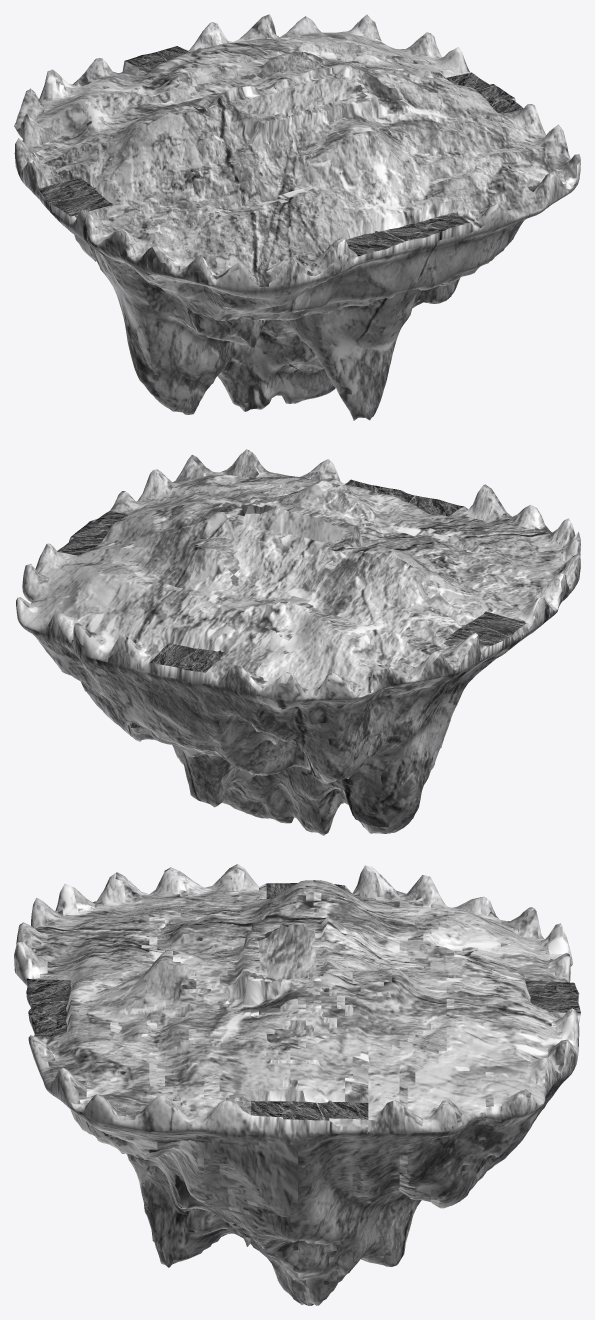
Rendered from BaseFlotanteModificacionesParaOrokin2.glb.
3 views of the same model, one above another, from view 1: azimuth 30°, elevation 25°; view 2: azimuth 150°, elevation 25°; view 3: azimuth 270°, elevation 25° (orthographic). The views are drawn at different scales.
Visible parts, largest first — view 1: Landscape; view 2: Landscape; view 3: Landscape.
Part boxes in pixels (bbox=[...]): Landscape: bbox=[14, 14, 580, 420]; Landscape: bbox=[16, 449, 580, 835]; Landscape: bbox=[14, 864, 580, 1305].
Bounding box in the file's own units: 1.83 × 1.21 × 1.81.
2 materials, 2 textured.
